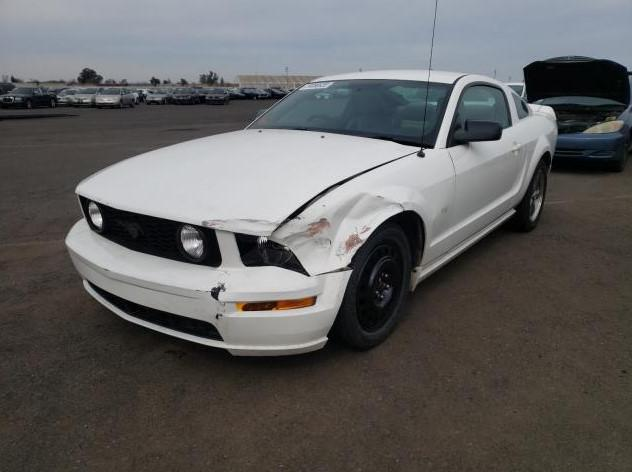Broken part: (69, 218, 355, 356), (263, 151, 416, 238)
Corrosion: (306, 216, 330, 236), (344, 232, 364, 254), (358, 224, 373, 235)
Dent: (197, 190, 410, 278), (403, 201, 420, 211)
Paint chip: (210, 281, 227, 302), (214, 312, 222, 321), (195, 289, 212, 293), (104, 268, 111, 273), (219, 304, 226, 308)
Scratch: (284, 217, 331, 245), (342, 224, 370, 258), (200, 218, 282, 228), (211, 266, 232, 280), (313, 237, 331, 247), (394, 201, 406, 210), (295, 214, 304, 222), (376, 195, 386, 200), (195, 289, 202, 295), (223, 288, 227, 293)
